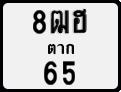letters: (50, 9, 69, 34), (72, 7, 87, 34), (43, 59, 58, 86), (61, 59, 76, 86), (31, 9, 47, 34)
province: (47, 42, 75, 56)
